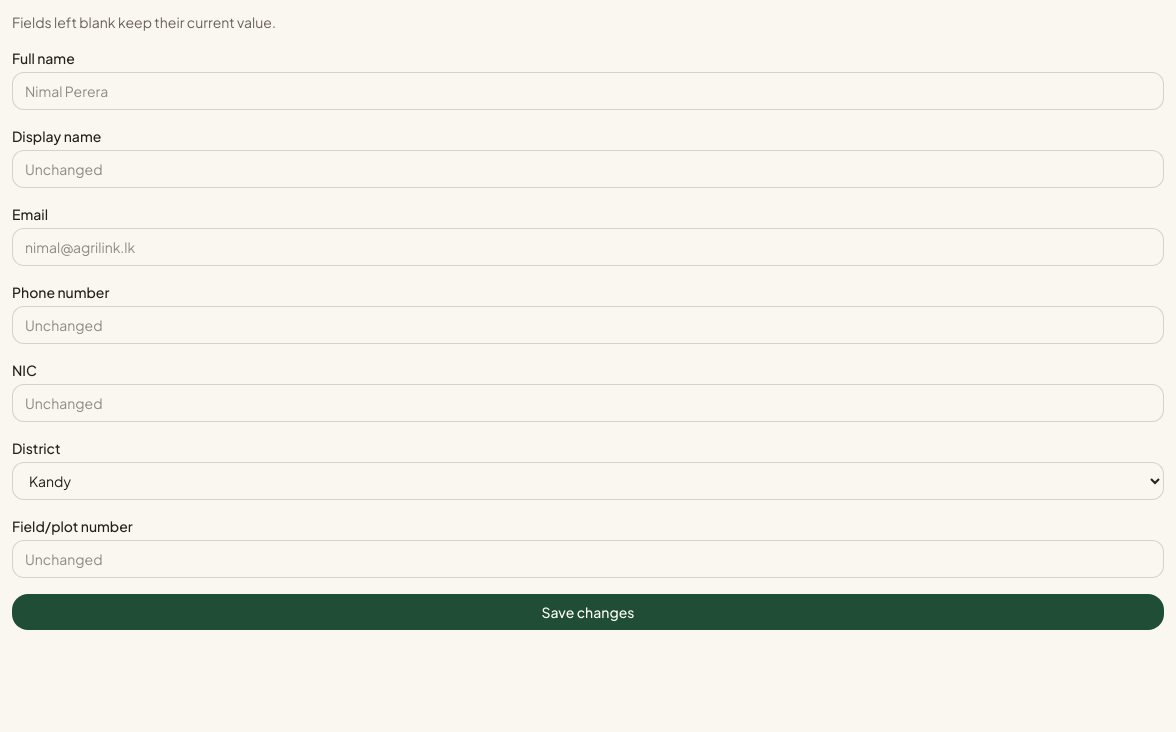
Test: EditUserForm › flags an invalid phone number and does not submit
In the field labelled "Phone number": (588, 325) [12,306,1164,344], type "123"
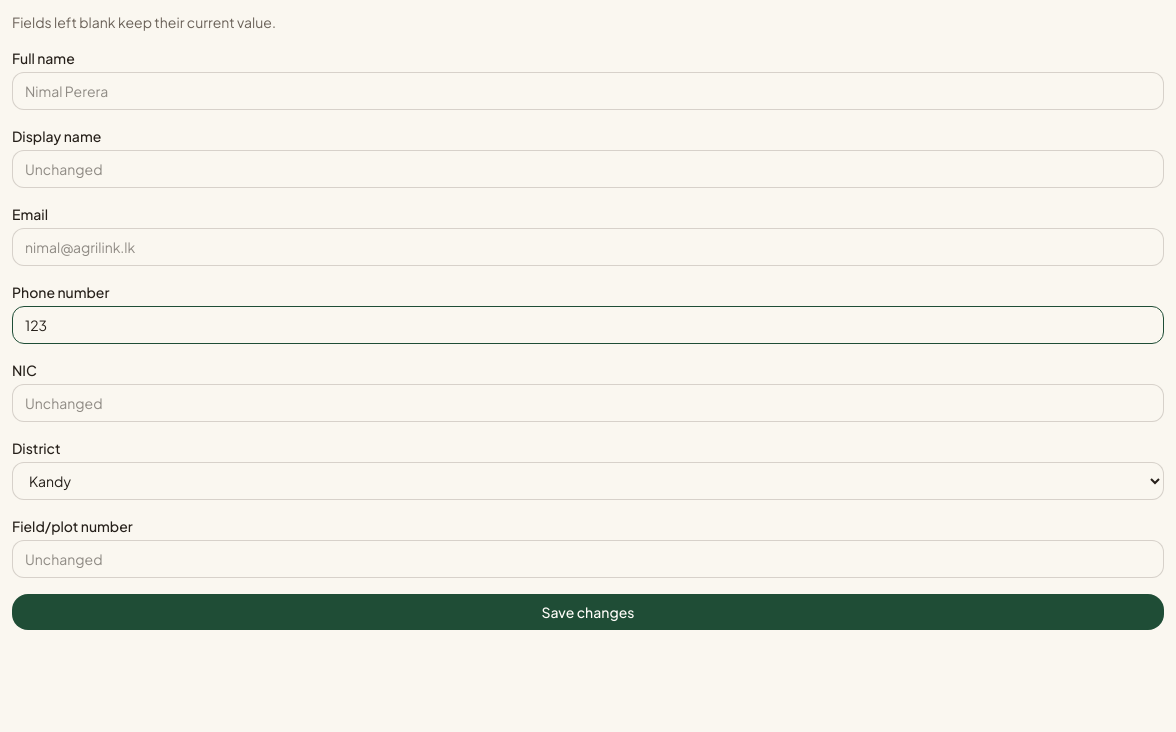
Click the button "Save changes": (588, 612) [12,594,1164,630]
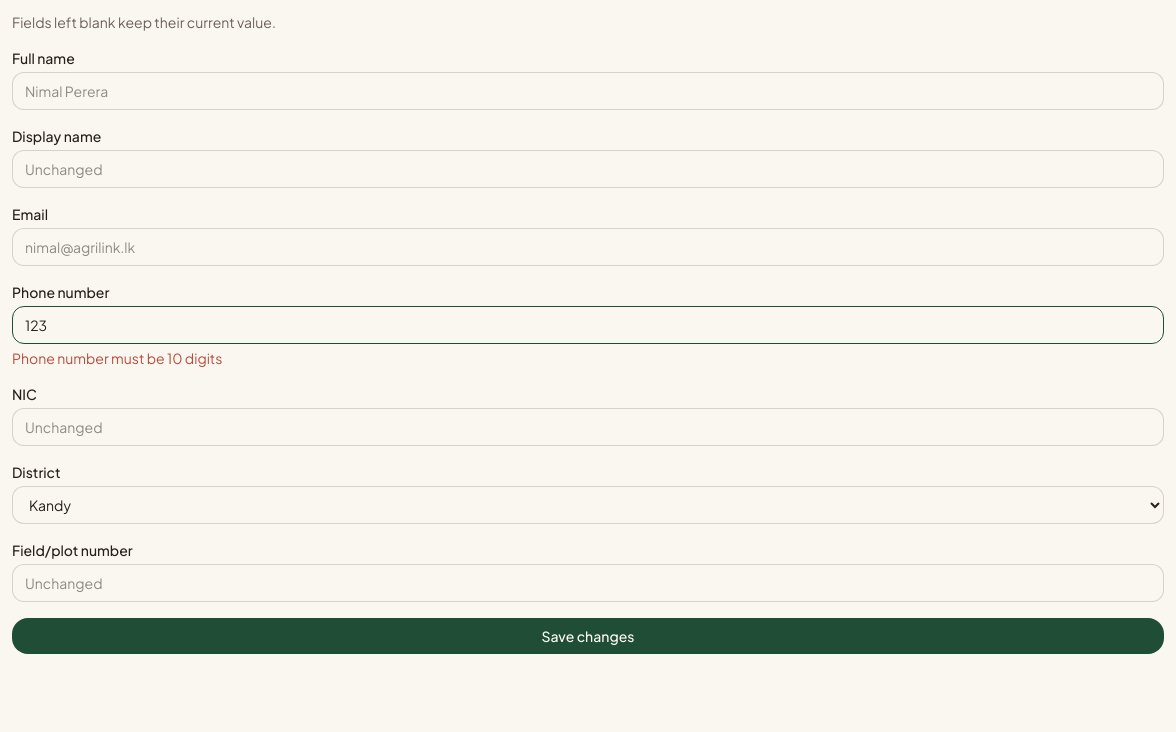
Expected: the text "Phone number must be 10 digits" is shown, [12,349,222,367]
